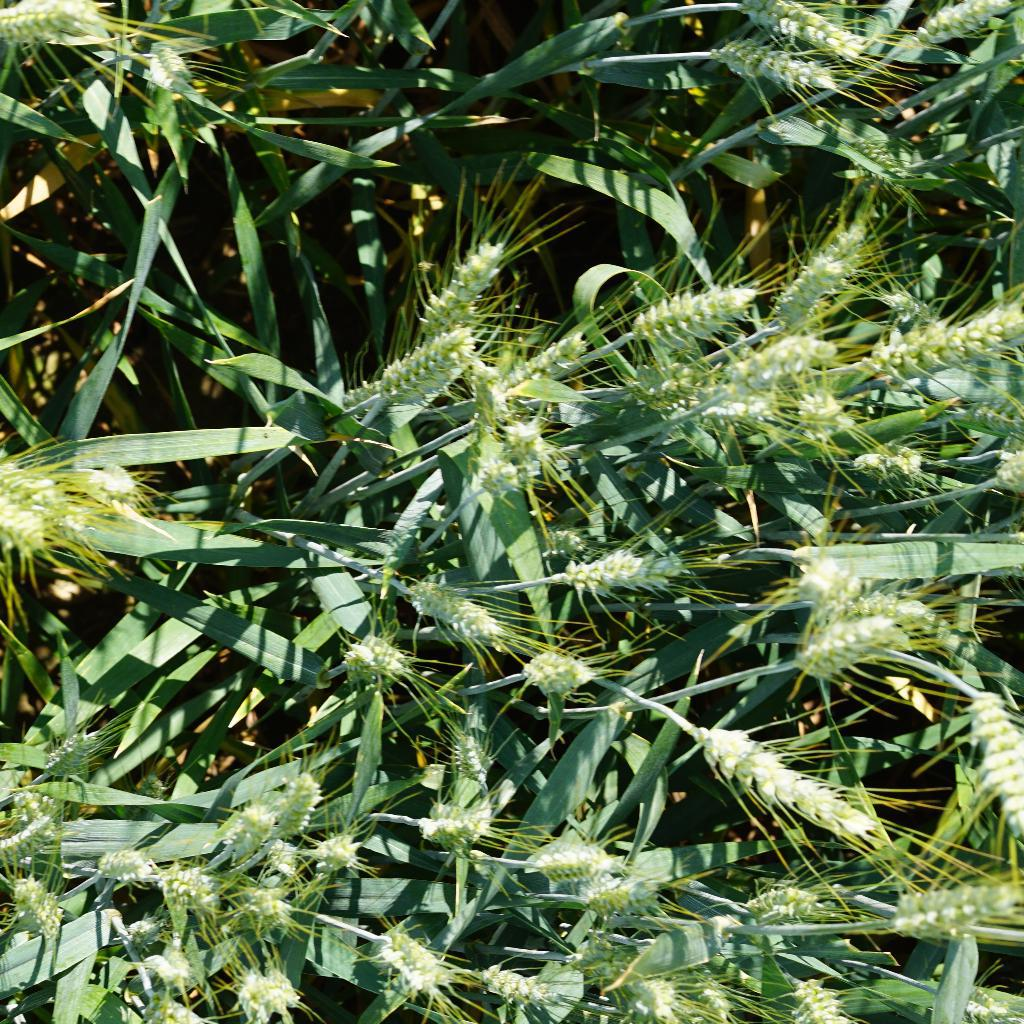0-0: (690, 709, 886, 845), (752, 228, 885, 347), (340, 314, 478, 403), (609, 272, 763, 343), (395, 238, 519, 324), (878, 303, 1024, 376), (789, 606, 930, 679), (727, 0, 885, 64), (706, 332, 837, 407), (959, 677, 1024, 825), (878, 878, 1017, 946), (843, 115, 953, 194), (713, 32, 848, 96), (0, 442, 92, 534), (18, 718, 123, 796), (361, 920, 460, 1001), (485, 322, 587, 399), (548, 549, 694, 600), (527, 832, 628, 896), (410, 580, 508, 643), (610, 352, 708, 414), (397, 791, 485, 858), (466, 959, 557, 1021), (0, 0, 105, 53), (337, 628, 415, 698), (225, 955, 307, 1019), (511, 636, 590, 699), (609, 967, 694, 1024), (911, 0, 1017, 45), (257, 769, 331, 833), (8, 884, 71, 957), (463, 456, 564, 501), (0, 813, 70, 877), (735, 871, 815, 927), (781, 397, 875, 444), (448, 712, 504, 789), (208, 796, 268, 864), (844, 444, 929, 492), (0, 487, 58, 557), (579, 870, 667, 915), (467, 372, 527, 438), (793, 544, 866, 598), (791, 970, 863, 1024), (492, 415, 559, 473), (148, 38, 206, 104), (88, 451, 150, 511), (561, 935, 638, 978), (299, 829, 366, 878), (511, 524, 596, 561), (958, 395, 1024, 441), (138, 939, 195, 991), (100, 841, 159, 890), (164, 864, 221, 911), (240, 886, 296, 933), (259, 835, 303, 884), (121, 912, 163, 960)
